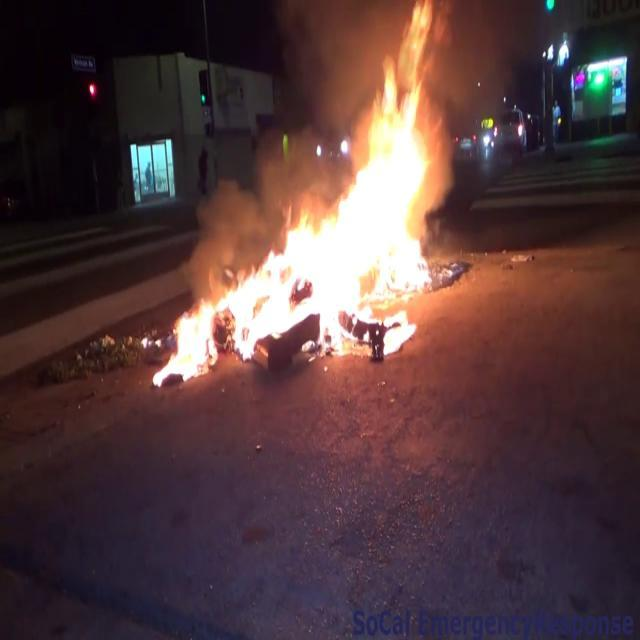Fire: (157, 2, 452, 362)
